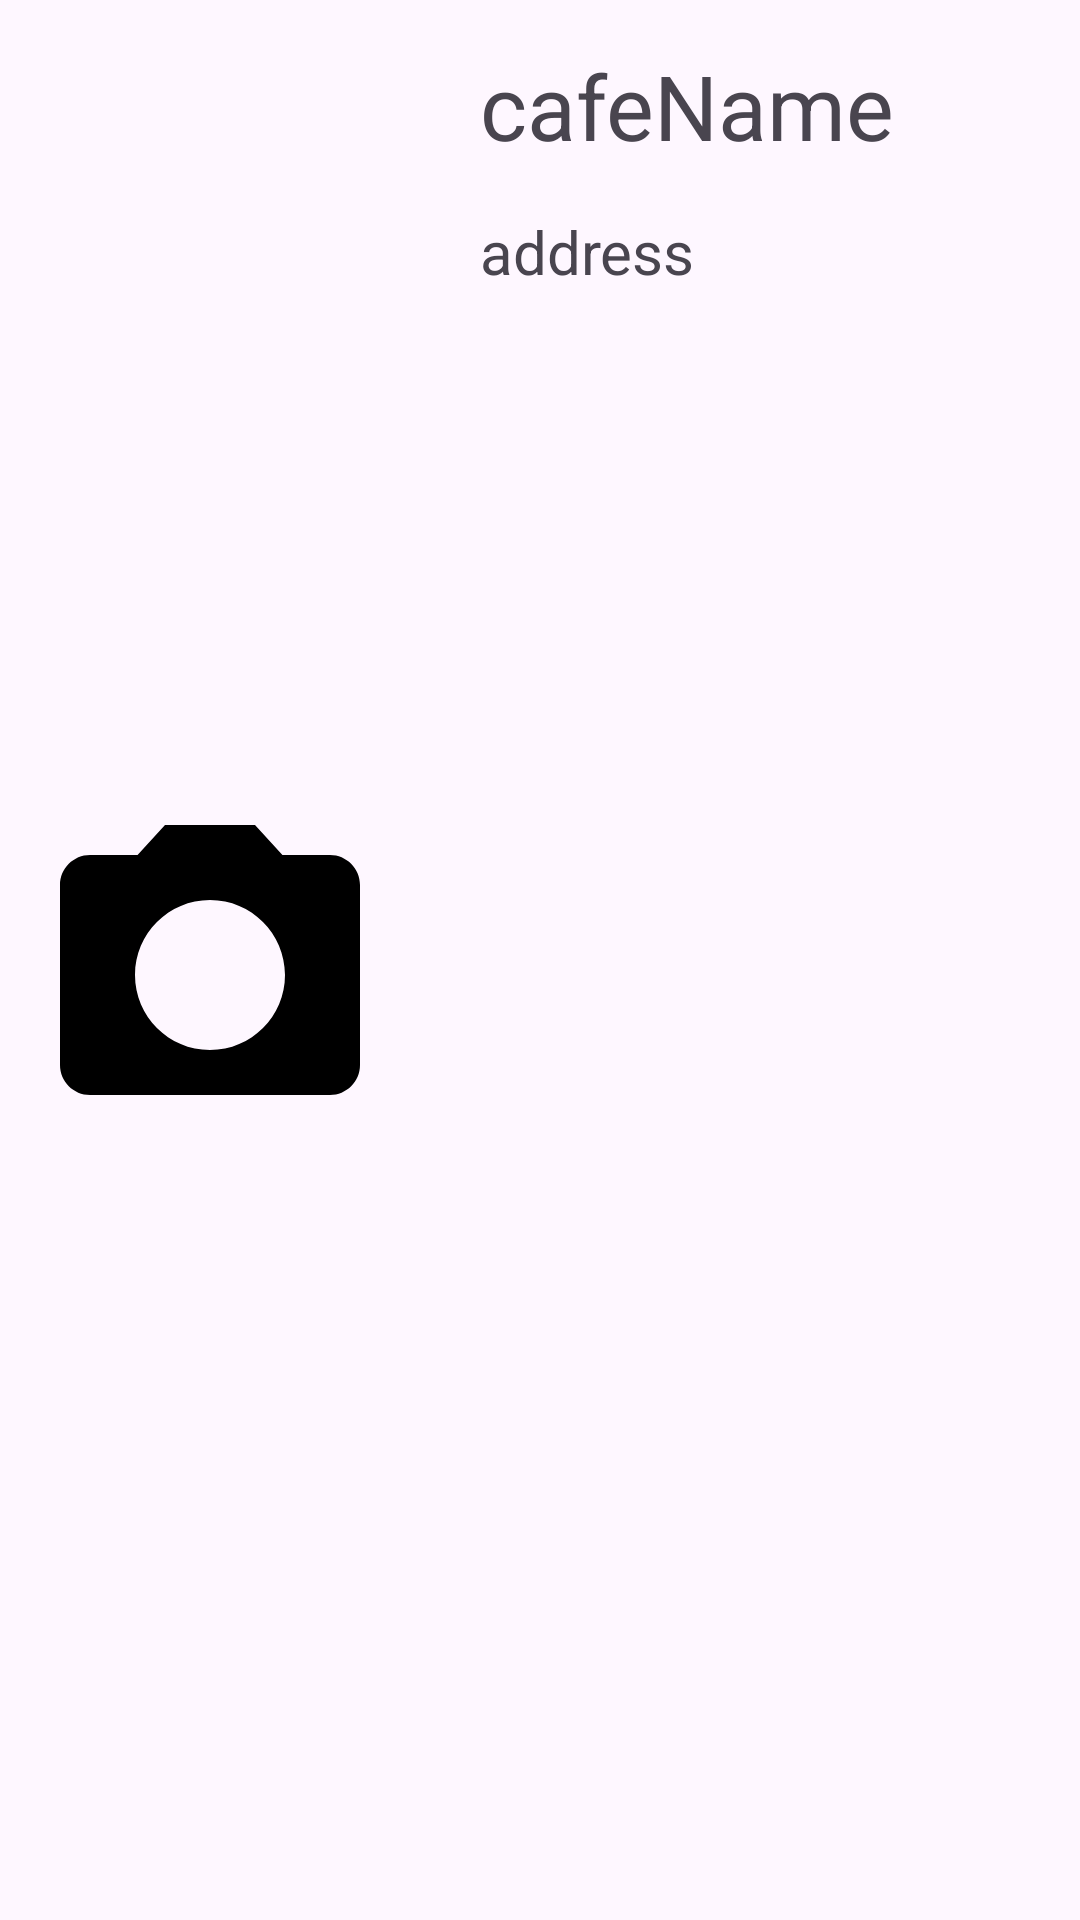

Icons on this 1080px×1920px Android screen, each with its box as (x1, y1, x2, y2):
photo: (60, 825, 360, 1095)
